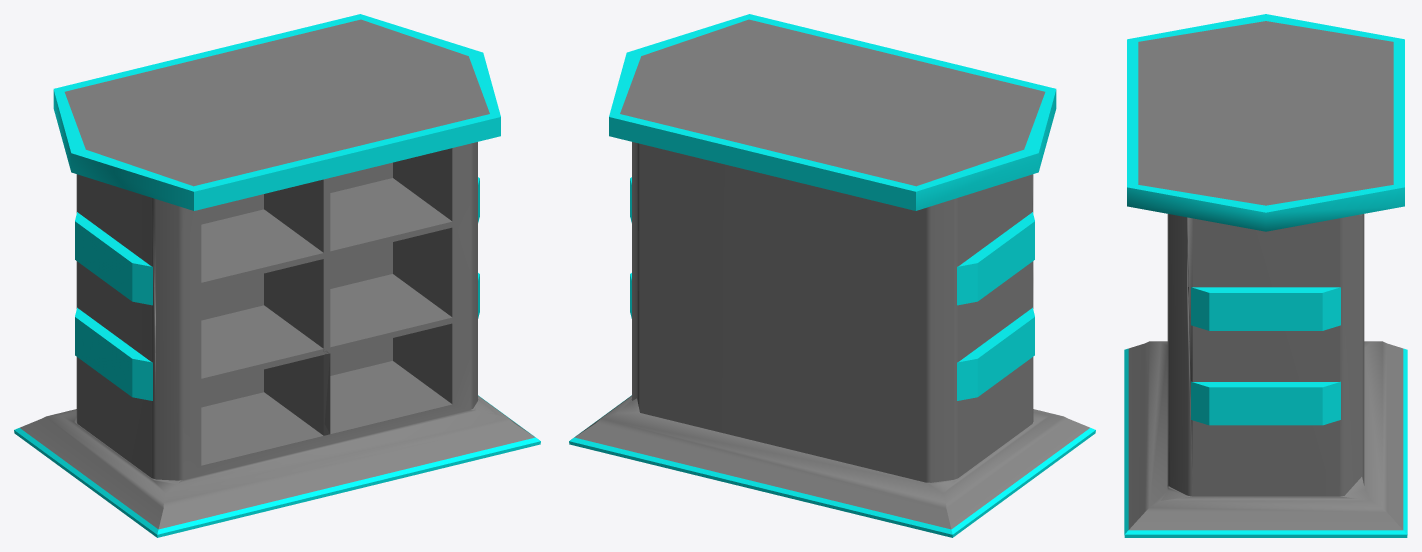
Rendered from kitchenBar.glb.
3 views of the same model, side by side, from view 1: azimuth 30°, elevation 25°; view 2: azimuth 150°, elevation 25°; view 3: azimuth 270°, elevation 25° (orthographic).
Parts seen in each view (by area): view 1: kitchenBar; view 2: kitchenBar; view 3: kitchenBar.
Boxes of the visible parts, bbox=[...] form: kitchenBar: bbox=[14, 14, 540, 537]; kitchenBar: bbox=[569, 14, 1095, 537]; kitchenBar: bbox=[1124, 14, 1407, 537].
Bounding box in the file's own units: 1.21 × 0.9417 × 0.7275.
